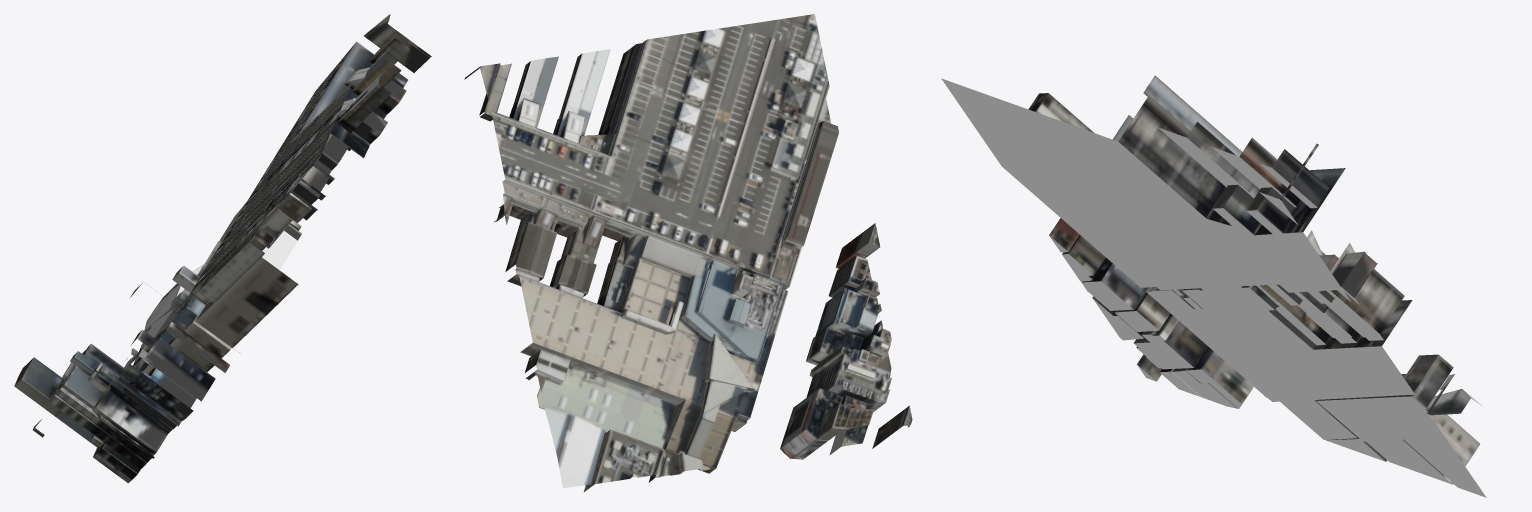
Rendered from 39530_bldg_Building.glb.
3 renders of one model, left to right at view 1: azimuth 30°, elevation 25°; view 2: azimuth 150°, elevation 25°; view 3: azimuth 270°, elevation 25°, orthographic. The views are drawn at different scales.
Bounding box in the file's own units: 172 × 137 × 161.
Materials: 2 (1 with a texture image).
